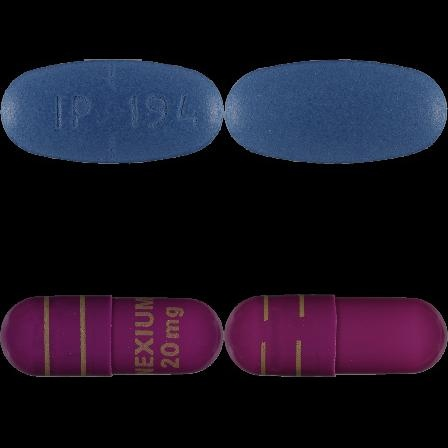21695-090: (0, 0, 224, 224)
